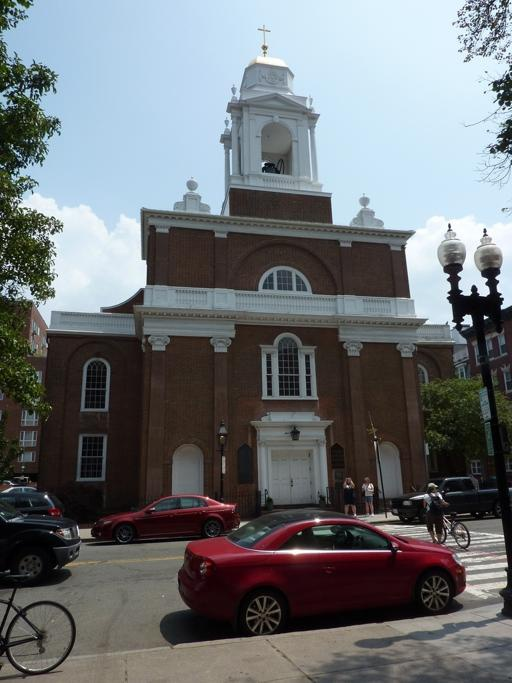non-vehicle: (0, 569, 76, 677), (425, 502, 470, 548)
